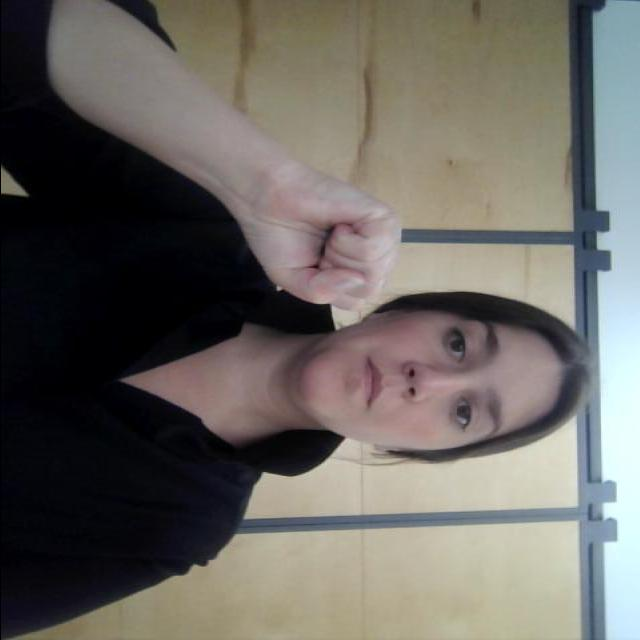Rock: (236, 174, 402, 314)
